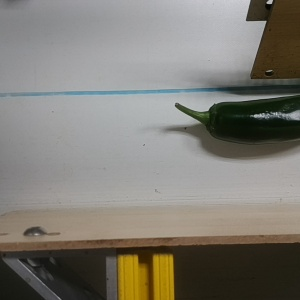Cut Point: (198, 98, 229, 142)
